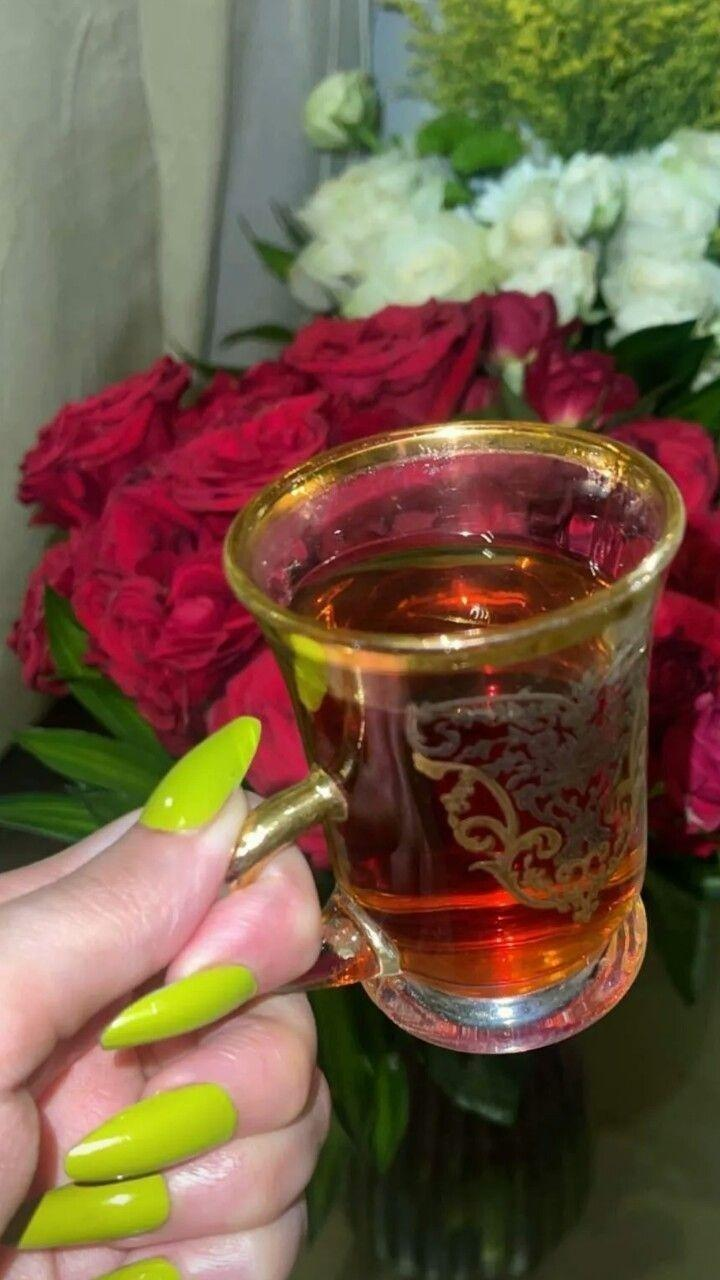glass-mug: (204, 413, 690, 1050)
